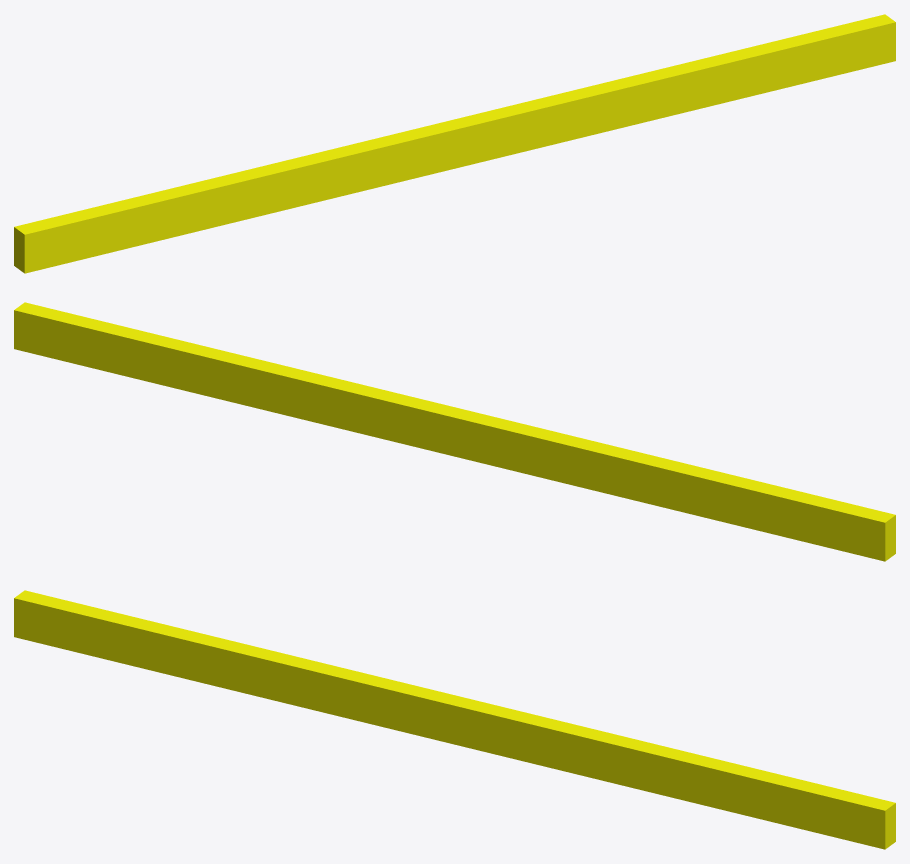
Rendered from Beam2_low.fbx.
The picture shows the model from 3 angles, top to bottom: view 1: azimuth 30°, elevation 25°; view 2: azimuth 150°, elevation 25°; view 3: azimuth 330°, elevation 25°; orthographic projection.
Parts seen in each view (by area): view 1: Wood_Outside_low; view 2: Wood_Outside_low; view 3: Wood_Outside_low.
Part boxes in pixels (box(x1,y1,x2,y2)): Wood_Outside_low: box(14, 14, 895, 273); Wood_Outside_low: box(14, 302, 895, 561); Wood_Outside_low: box(14, 590, 895, 849).
Size of the model in its own units: 694 by 29.59 by 14.9.
